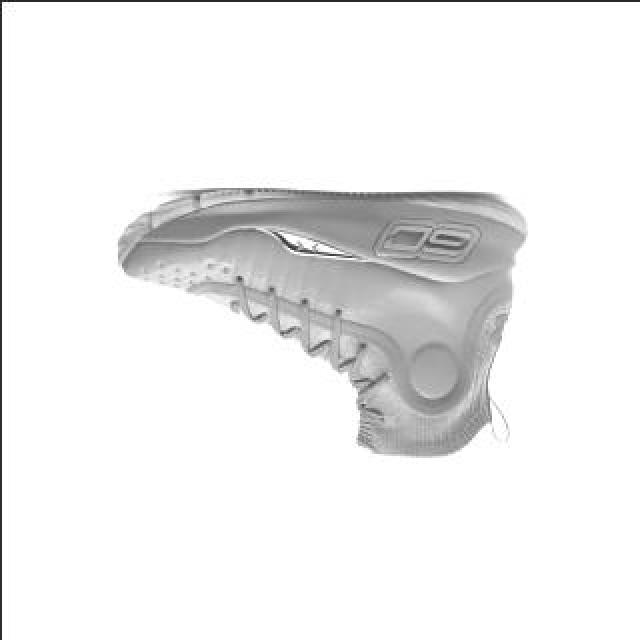shoe: (106, 180, 532, 459), (114, 184, 522, 456)
